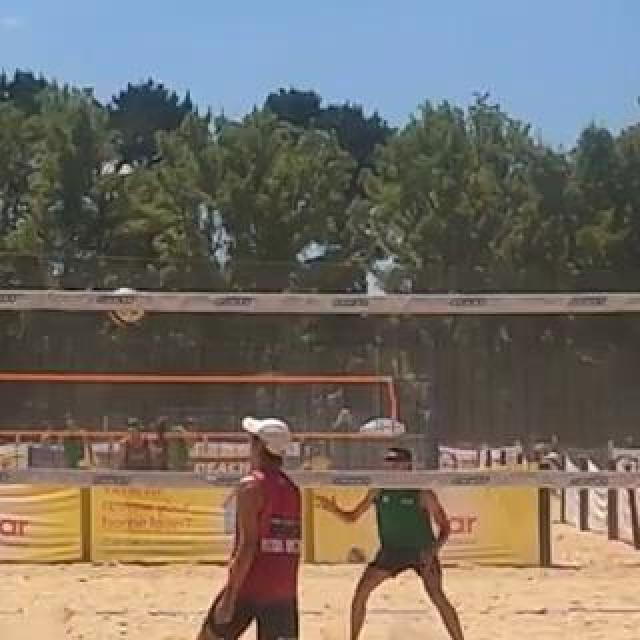volleyball: (104, 285, 144, 327)
